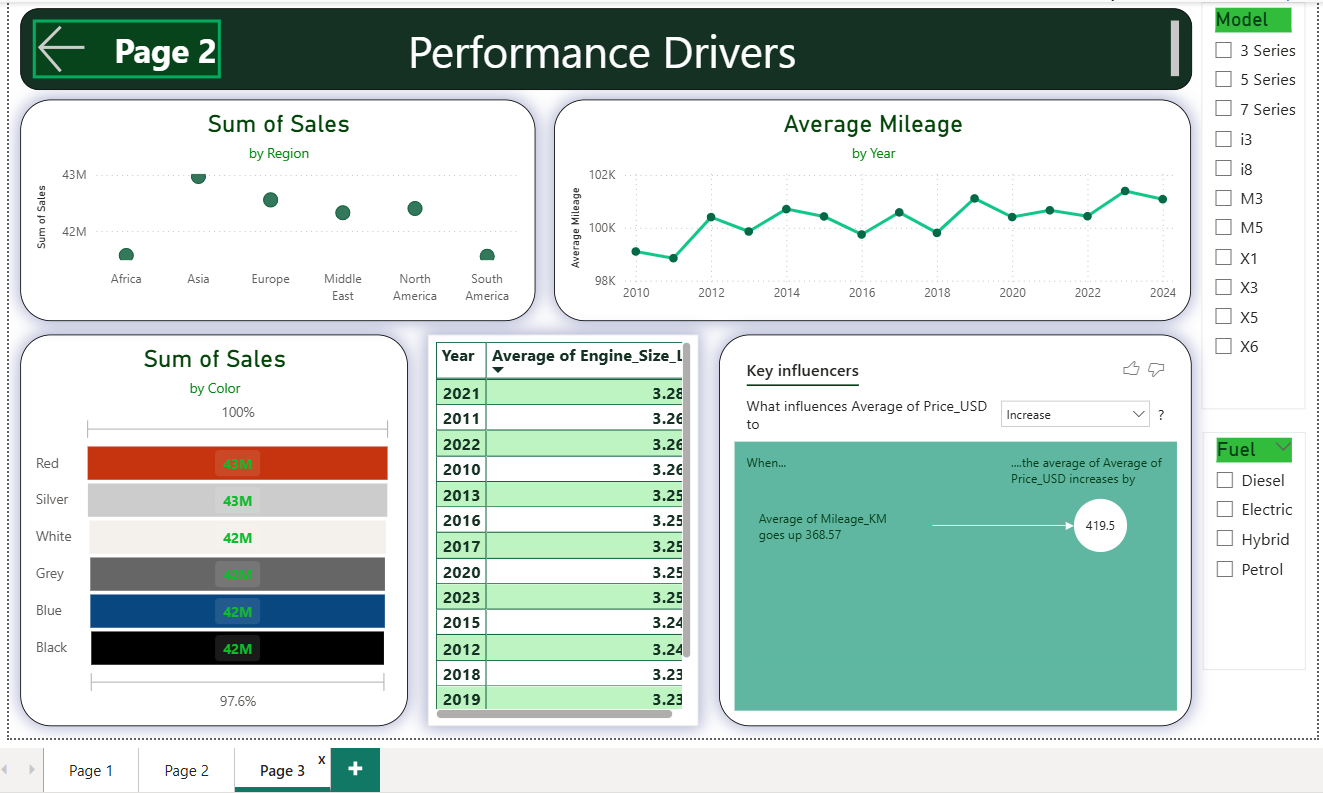

What the dashboard file says about the page in this screenshot:
{"tool":"powerbi","page":{"name":"Page 3","canvas":[1280,720],"ordinal":2},"visuals":[{"type":"lineChart","title":"Average Mileage","fields":{"Category":["BMW sales data (2010-2024).Year"],"Y":["Avg(BMW sales data (2010-2024).Mileage_KM)"]},"box":[533.7,95.7,623.3,217.2],"z":0},{"type":"slicer","fields":{"Values":["BMW sales data (2010-2024).Fuel_Type"]},"box":[1168.1,420.9,100.6,233.1],"z":1000},{"type":"tableEx","fields":{"Values":["BMW sales data (2010-2024).Year","Avg(BMW sales data (2010-2024).Engine_Size_L)"]},"box":[409.8,325.2,265,382.8],"z":2000},{"type":"funnel","title":"Sum of Sales","fields":{"Category":["BMW sales data (2010-2024).Color"],"Y":["Sum(BMW sales data (2010-2024).Sales_Volume)"]},"box":[11,325.2,379.1,382.8],"z":3000},{"type":"slicer","fields":{"Values":["BMW sales data (2010-2024).Model"]},"box":[1166.9,0,101.8,398.8],"z":4000},{"type":"scatterChart","title":"Sum of Sales","fields":{"X":["BMW sales data (2010-2024).Region"],"Y":["Sum(BMW sales data (2010-2024).Sales_Volume)"]},"box":[11,95.7,504.3,217.2],"z":5000},{"type":"keyDriversVisual","fields":{"Target":["BMW sales data (2010-2024).Price_USD"],"ExplainBy":["Avg(BMW sales data (2010-2024).Mileage_KM)"],"Details":["BMW sales data (2010-2024).Region"]},"box":[694.5,325.2,462.6,382.8],"z":6000},{"type":"actionButton","box":[30.7,17.2,170.6,57.7],"z":7000},{"type":"textbox","box":[11,6.1,1146,79.8],"z":8000},{"type":"actionButton","box":[23.3,17.2,184.1,57.7],"z":9000}]}

Visuals, with their boxes in screenshot pixels (x1, y1, x2, y2):
"Average Mileage" lineChart: rect(551, 98, 1186, 319)
slicer - BMW sales data (2010-2024).Fuel_Type: rect(1198, 429, 1300, 667)
tableEx - BMW sales data (2010-2024).Year x Avg(BMW sales data (2010-2024).Engine_Size_L): rect(425, 331, 695, 722)
"Sum of Sales" funnel: rect(18, 331, 405, 722)
slicer - BMW sales data (2010-2024).Model: rect(1196, 0, 1300, 407)
"Sum of Sales" scatterChart: rect(18, 98, 532, 319)
keyDriversVisual - BMW sales data (2010-2024).Price_USD x Avg(BMW sales data (2010-2024).Mileage_KM): rect(715, 331, 1186, 722)
actionButton: rect(38, 18, 212, 76)
textbox: rect(18, 6, 1186, 88)
actionButton: rect(31, 18, 218, 76)
